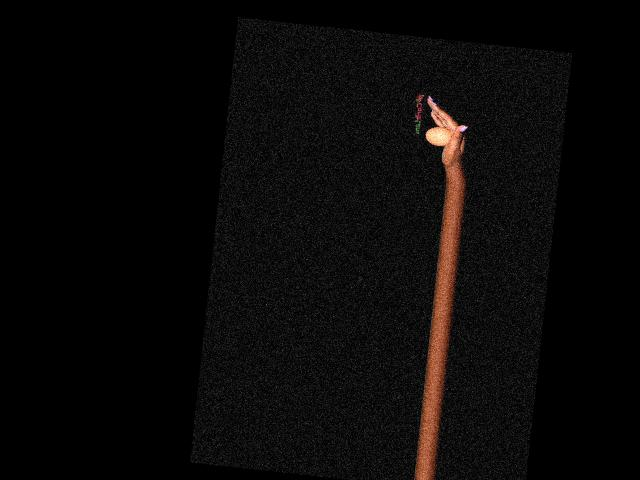egg: (424, 125, 452, 147)
